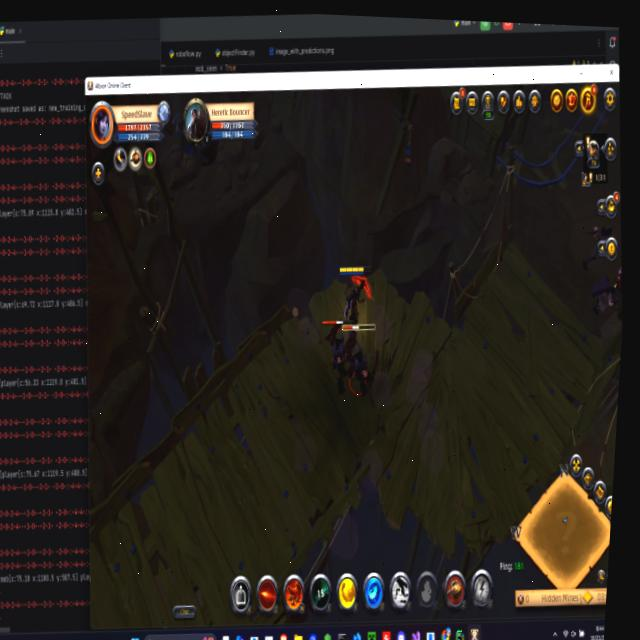ore: (329, 314, 381, 404), (314, 313, 354, 400), (575, 219, 618, 278), (586, 271, 620, 320)
red: (332, 261, 374, 329)
